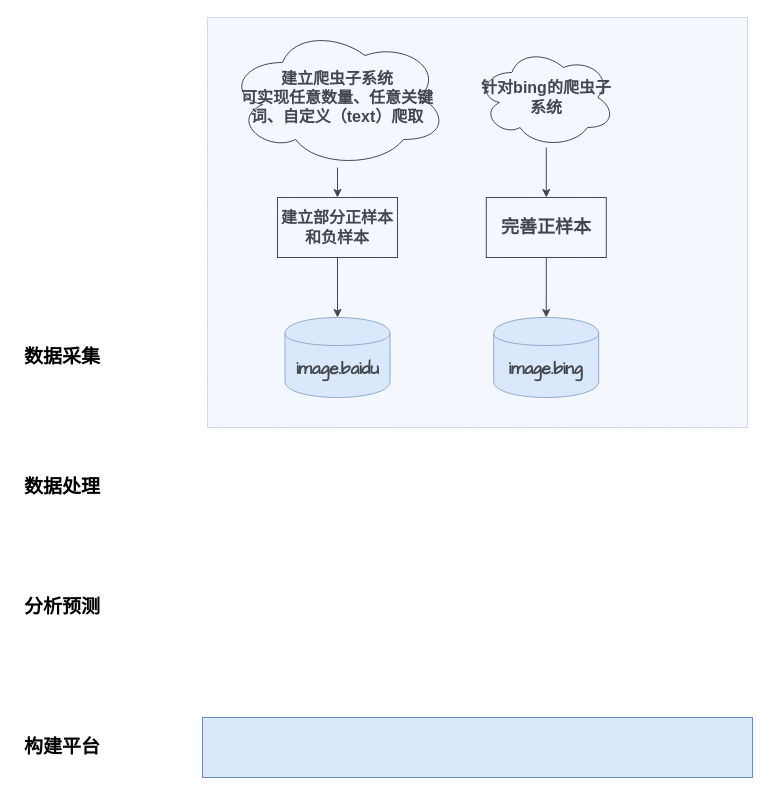
Some shapes in this 770 by 795 pixel diagram are drawn without their labels. The box of each missing label's shape, as (x1, y1, x2, y2) in pixels:
基于深度学习算法（CNN）的恐怖图像检测系统: (202, 716, 752, 778)
多URL数据收集，数据筛选、整合: (206, 16, 748, 428)
